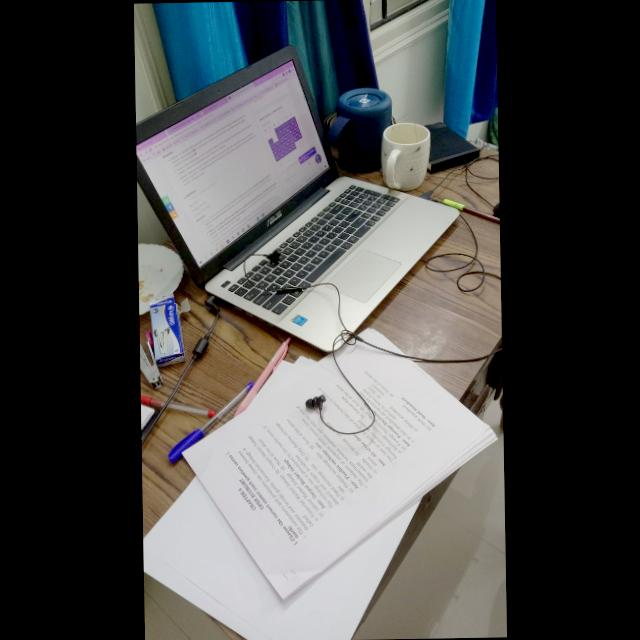laptop: (136, 46, 455, 349)
